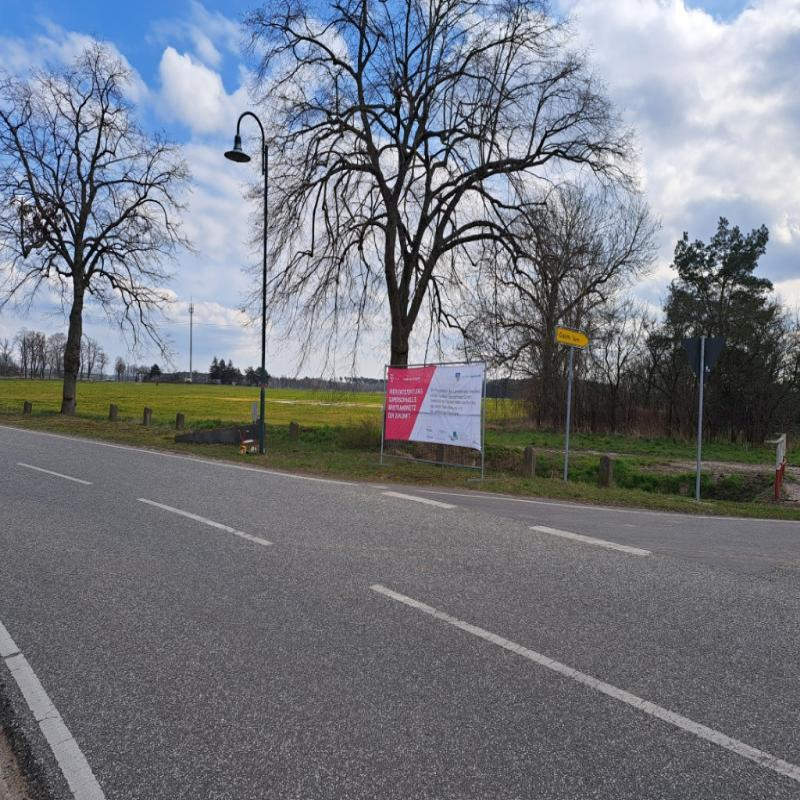Banner: (386, 364, 482, 449)
